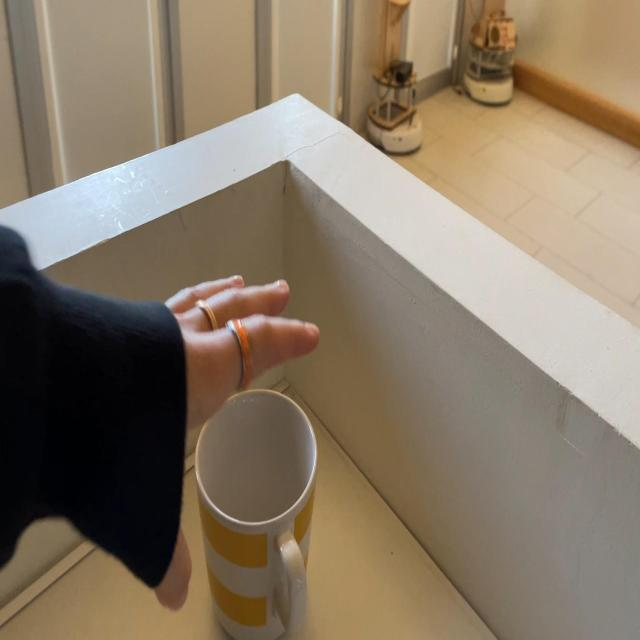cup: (184, 386, 320, 636)
